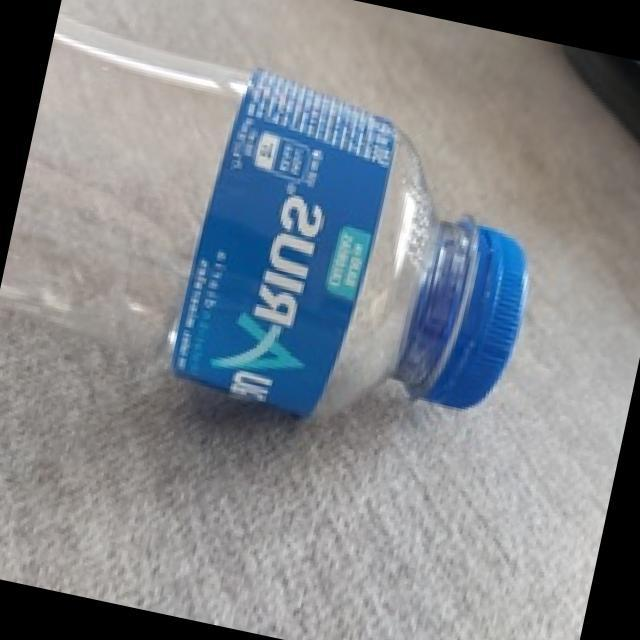good: (0, 49, 557, 454)
